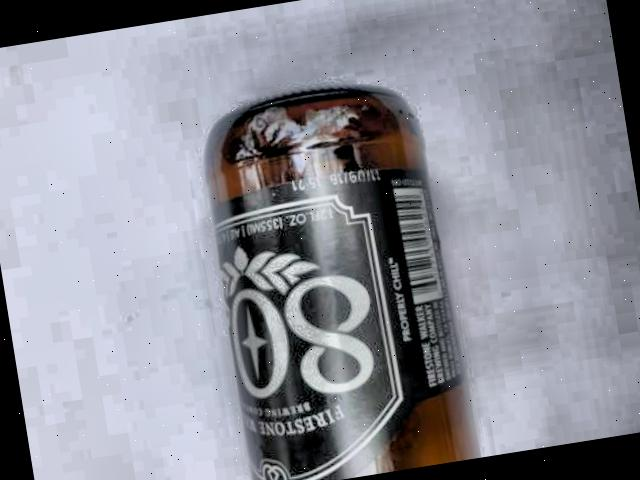Bottles: (162, 52, 529, 480)
